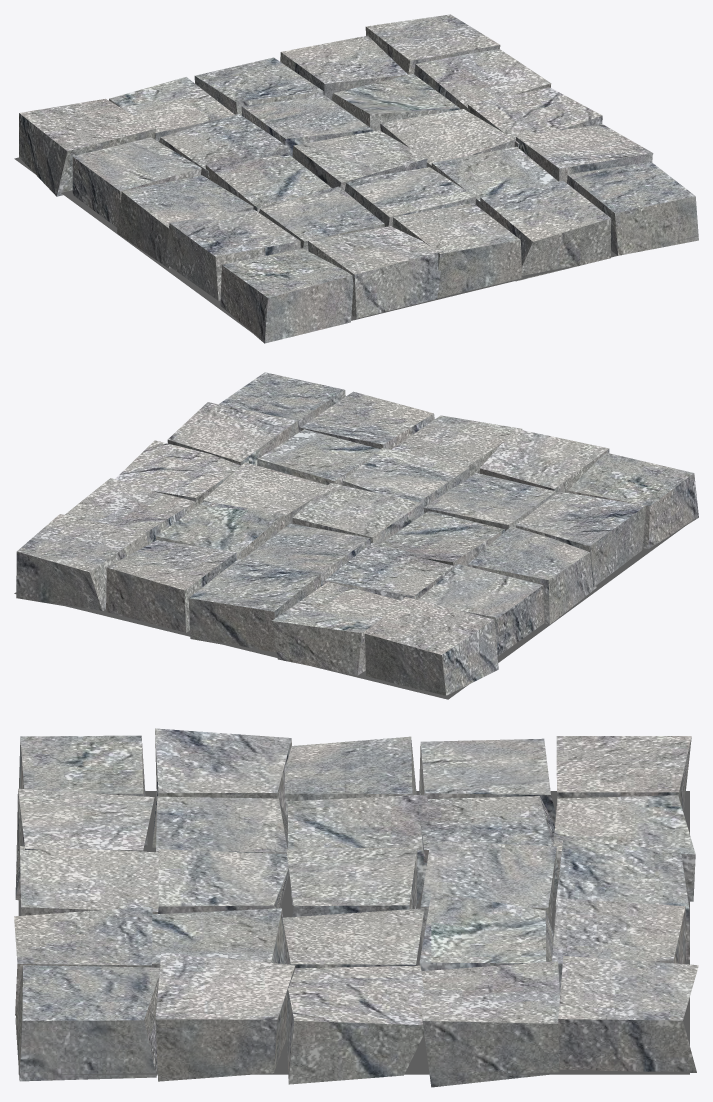
File: Stone_Tile_1x1.fbx
3 views of the same model, one above another, from view 1: azimuth 30°, elevation 25°; view 2: azimuth 150°, elevation 25°; view 3: azimuth 270°, elevation 25° (orthographic). The views are drawn at different scales.
Parts seen in each view (by area): view 1: Stone_Tile_1x1; view 2: Stone_Tile_1x1; view 3: Stone_Tile_1x1.
Part boxes in pixels (box(x1,y1,x2,y2)): Stone_Tile_1x1: box(14, 14, 698, 343); Stone_Tile_1x1: box(14, 372, 698, 699); Stone_Tile_1x1: box(14, 728, 698, 1087).
Bounding box in the file's own units: 1.03 × 0.1338 × 1.02.
2 materials, 1 textured.
